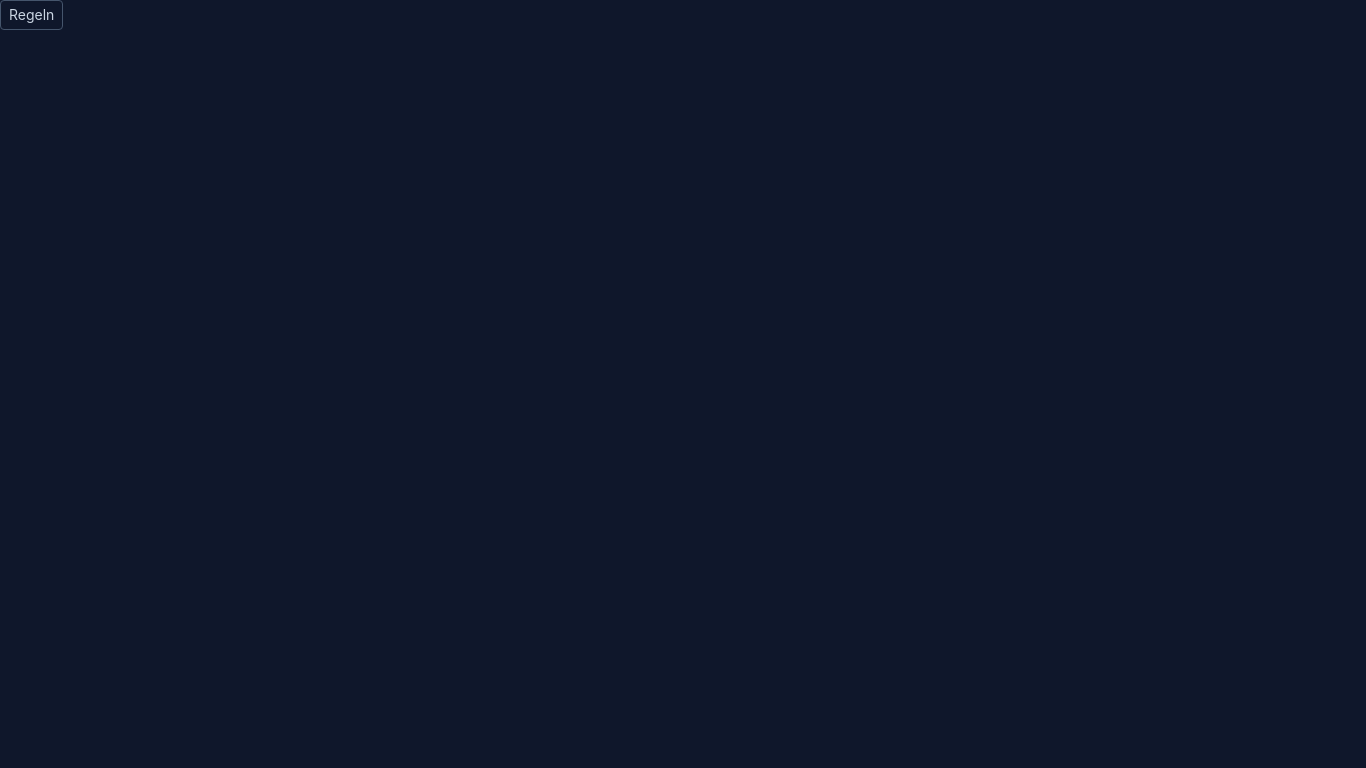
Test: RulesButton › opens the rules dialog on click and shows all rule entries
Click the button "Regeln": (32,15) x1=0 y1=0 x2=63 y2=30
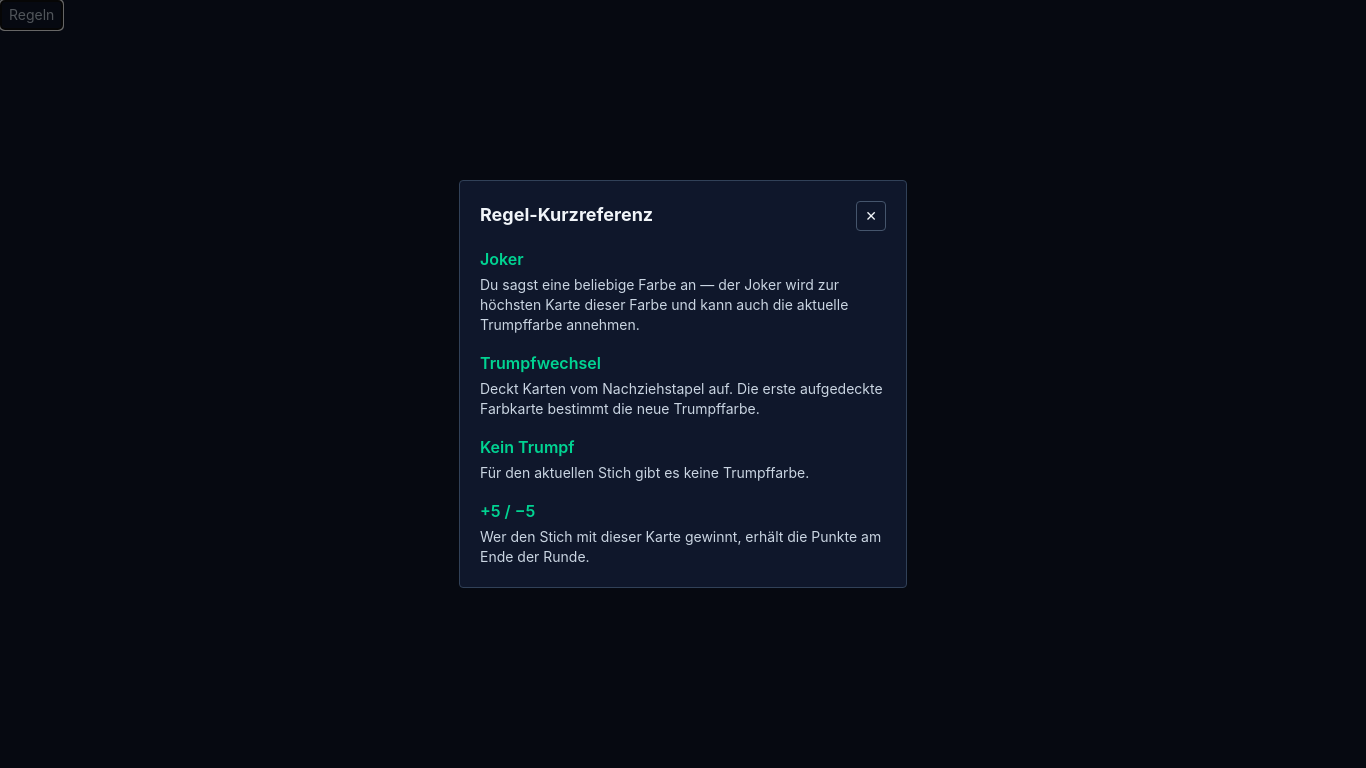
Check: the dialog is shown, box x1=459 y1=180 x2=907 y2=588
Check: the text "Joker" is shown, box x1=480 y1=249 x2=524 y2=269
Check: the text "Trumpfwechsel" is shown, box x1=480 y1=353 x2=601 y2=373
